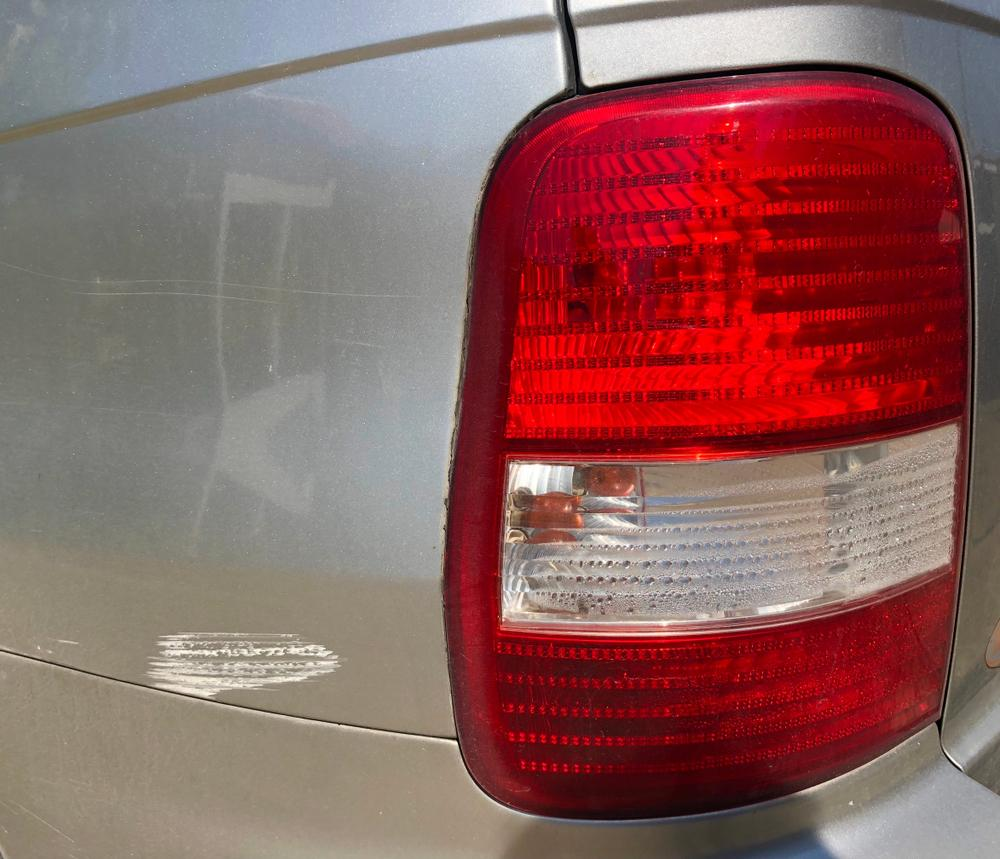scratch: (136, 624, 349, 703)
